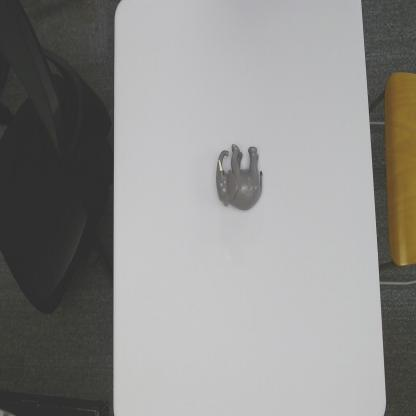Elephant: (215, 142, 264, 212)
